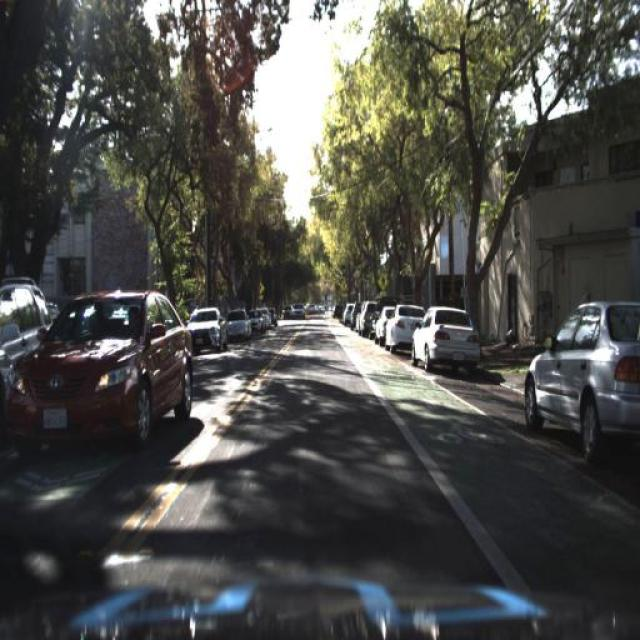car: (4, 281, 208, 475), (524, 296, 640, 476), (409, 296, 485, 382), (410, 305, 489, 370), (184, 302, 225, 358), (383, 304, 425, 351), (386, 300, 414, 354), (223, 308, 252, 342), (225, 308, 250, 347), (360, 300, 376, 334), (251, 303, 265, 335), (374, 306, 386, 338)
